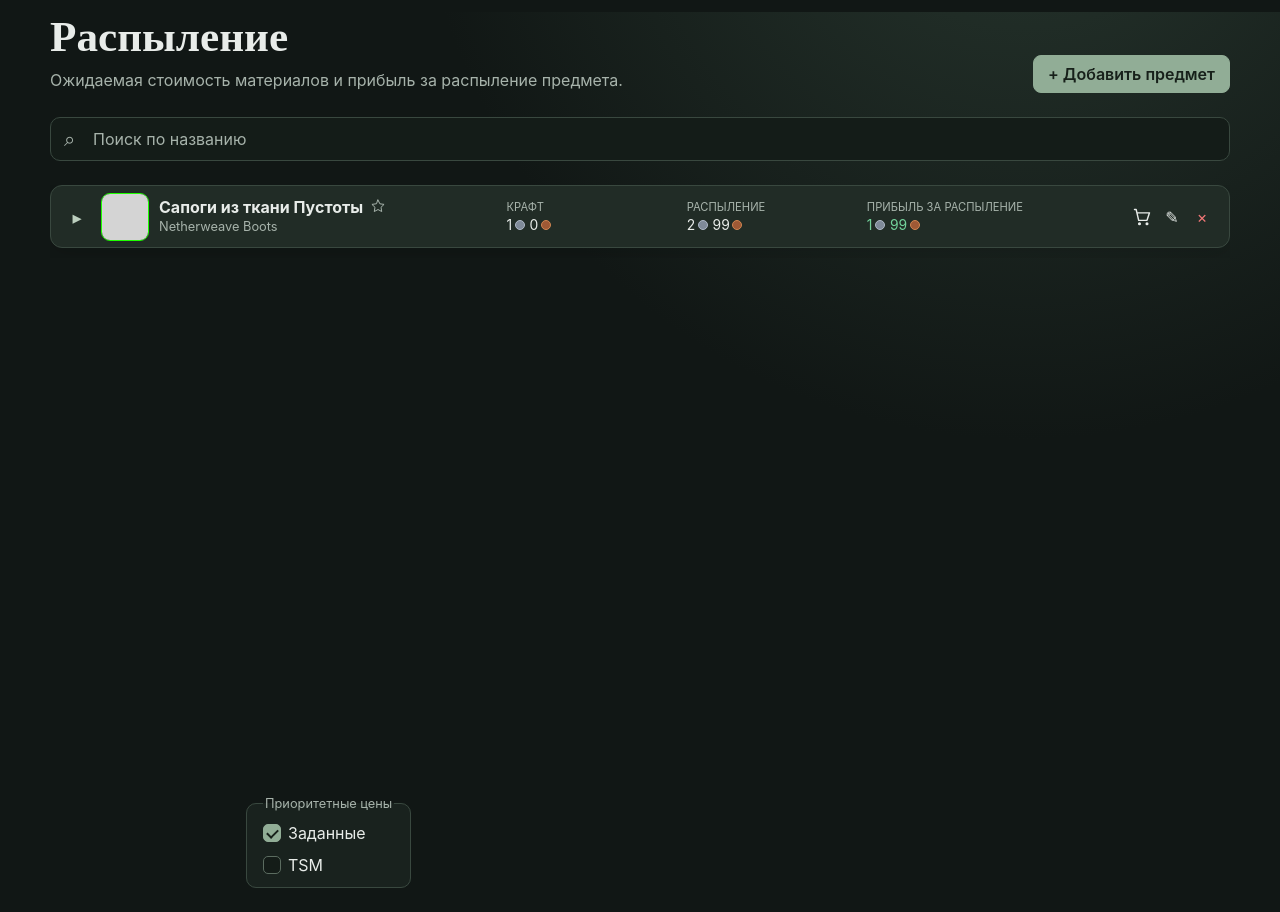
Test: страница Распыление › ищет по второму названию и пересчитывает цену продажи материала сразу
Type "NETHERWEAVE" into the search field.
click(640, 139); type("NETHERWEAVE")  # box [50,117,1230,161]
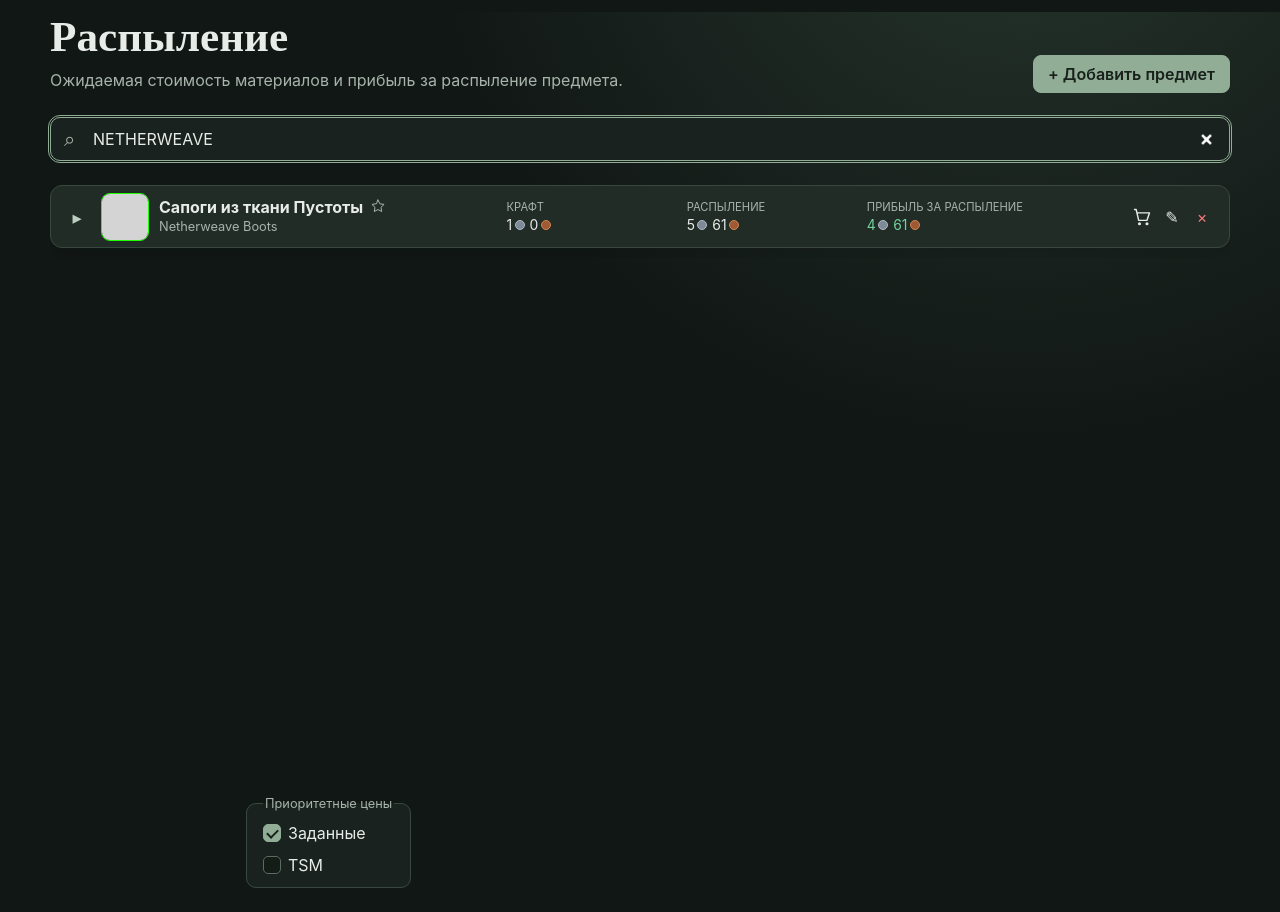
Check: the button "Сапоги из ткани Пустоты" is shown, box [50,185,1230,248]
Check: the element with class "money-display" reads "4 61", box [867,217,920,233]
Replace the text in the search field with "нет такого" at (640, 139), box [50,117,1230,161]
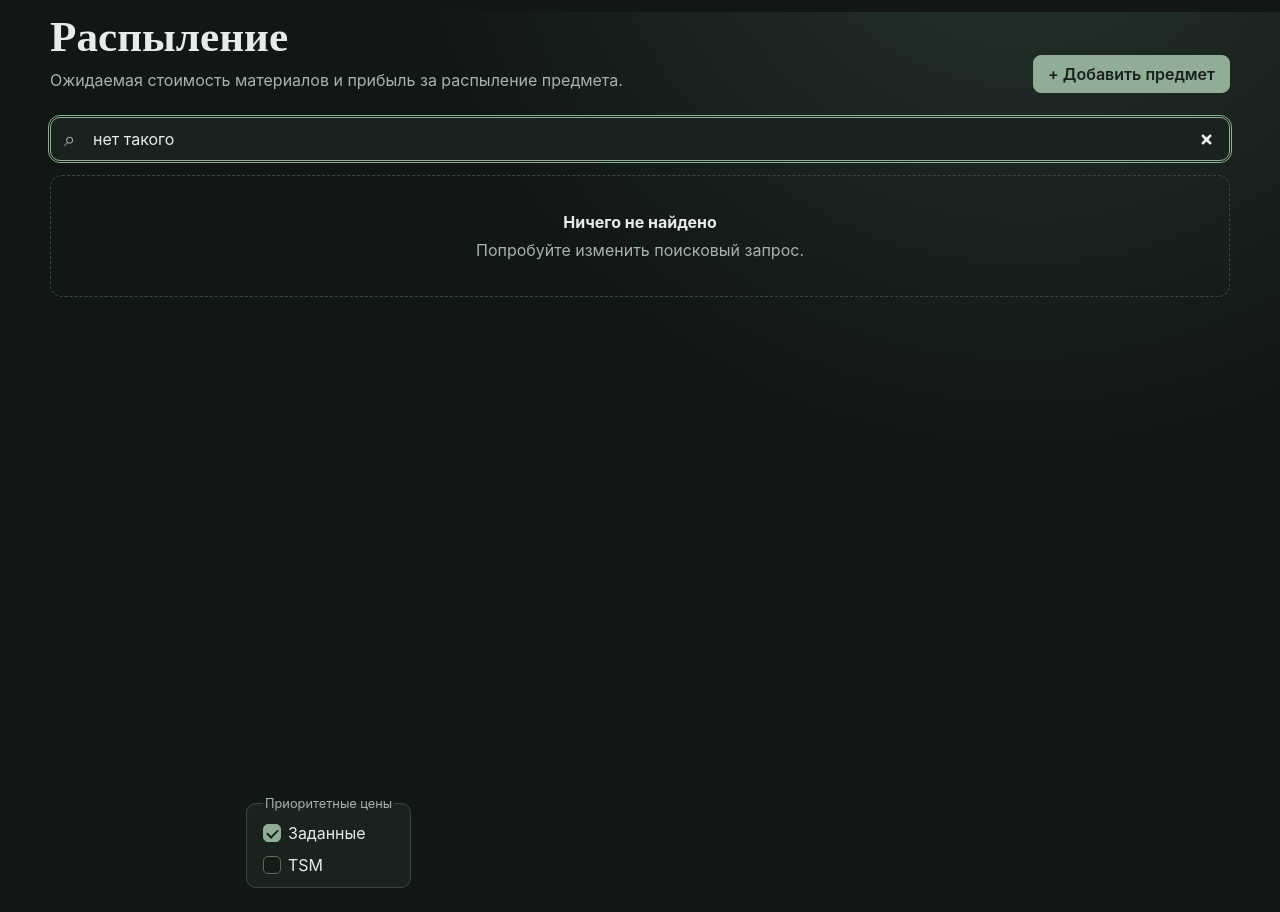
Check: the button "Сапоги из ткани Пустоты" is gone
Check: the text "Ничего не найдено" is shown, box [563,212,717,232]
